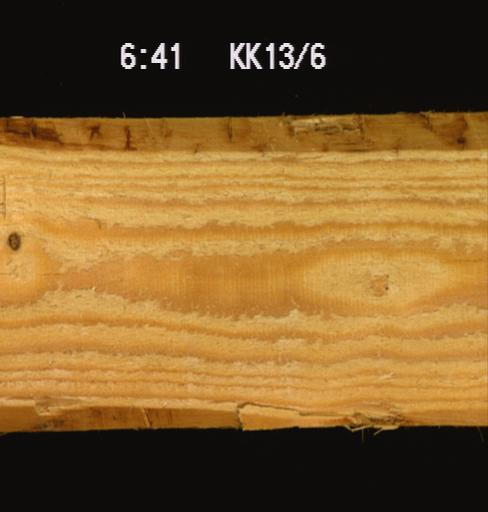dry_knot: (2, 227, 23, 252)
wave: (0, 110, 485, 158), (0, 383, 441, 433)
